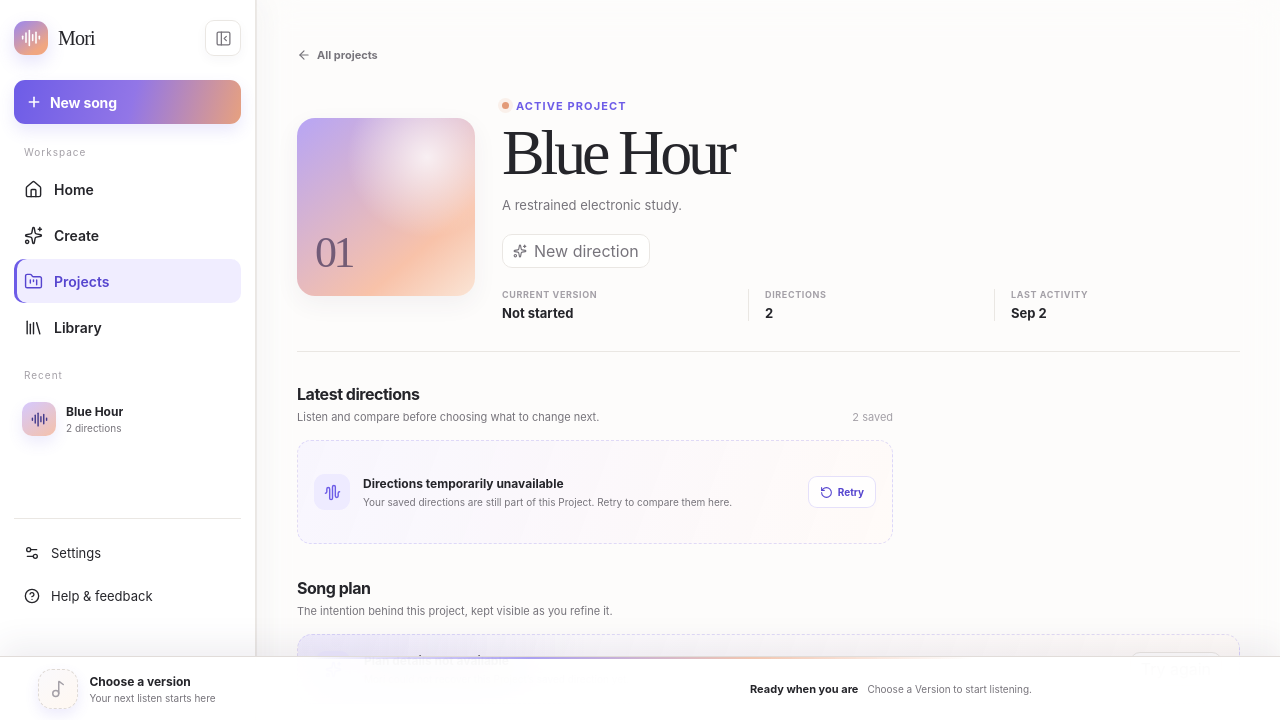
Mori project overview › separates an unavailable candidate projection from a genuinely empty Project and retries it
The image size is (1280, 720).
Expected: the heading "Blue Hour" is shown, x1=502 y1=116 x2=733 y2=188
Expected: the text "A restrained electronic study." is shown, x1=502 y1=197 x2=682 y2=213
Step 1. Click the button with aria-label "Retry directions" → [842, 492], box x1=808 y1=476 x2=876 y2=508
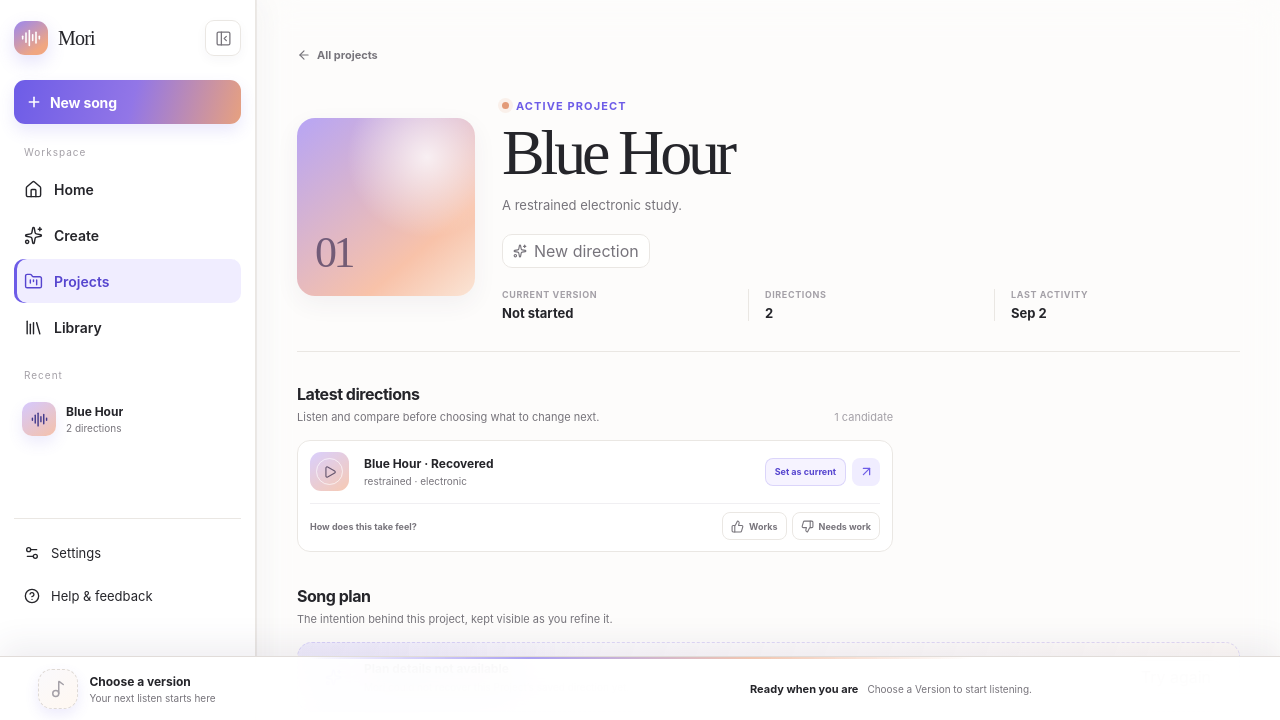
Now the button named "Play Blue Hour · Recovered" is shown, box x1=310 y1=452 x2=349 y2=491
